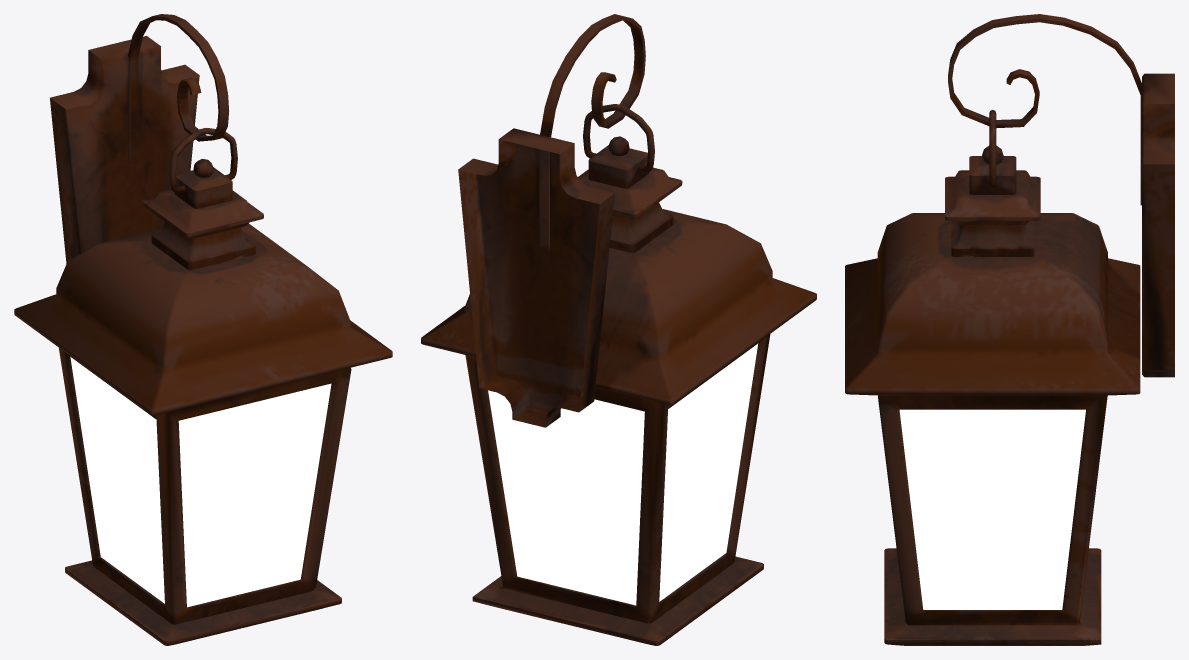
The model's file is light_outdoor_side_lamp.fbx.
3 views of the same model, side by side, from view 1: azimuth 30°, elevation 25°; view 2: azimuth 150°, elevation 25°; view 3: azimuth 270°, elevation 25° (orthographic). The views are drawn at different scales.
Visible parts, largest first — view 1: Cylinder.008; view 2: Cylinder.008; view 3: Cylinder.008.
Part boxes in pixels (<box>): Cylinder.008: <box>14,14,392,645</box>; Cylinder.008: <box>421,14,816,645</box>; Cylinder.008: <box>845,14,1174,645</box>.
Size of the model in its own units: 26.33 by 58.16 by 29.39.
